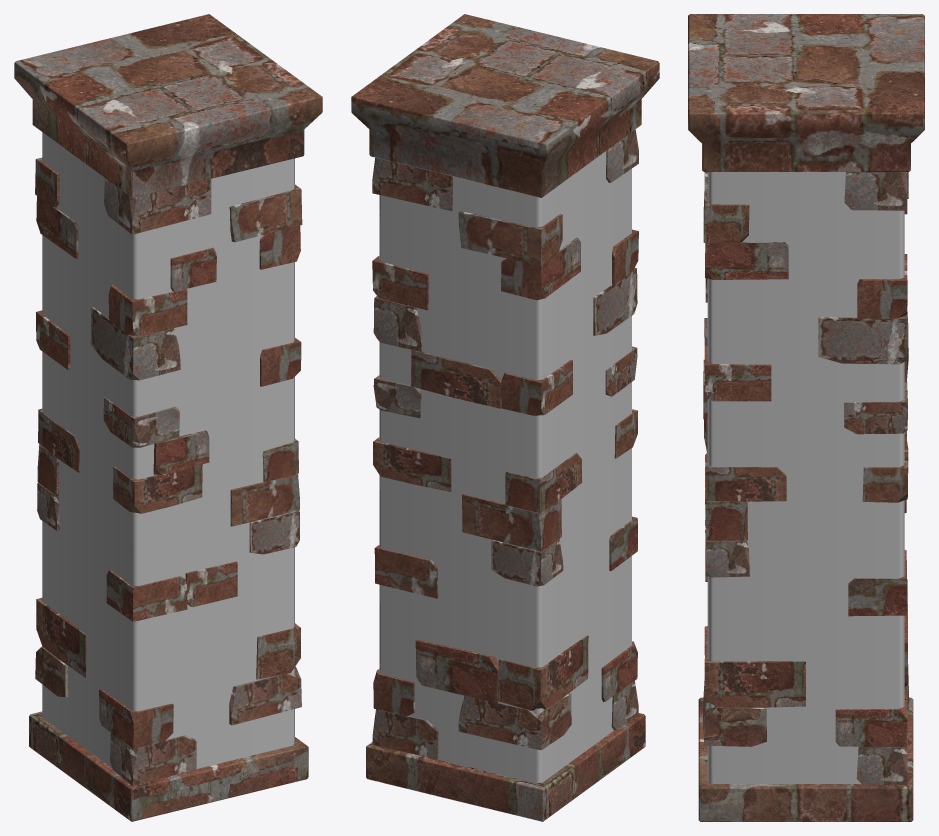
The model's file is SM_Brick_Column_03.fbx.
3 renders of one model, left to right at view 1: azimuth 30°, elevation 25°; view 2: azimuth 150°, elevation 25°; view 3: azimuth 270°, elevation 25°, orthographic. The views are drawn at different scales.
Visible parts, largest first — view 1: SM_Brick_Column_03_LOD0; view 2: SM_Brick_Column_03_LOD0; view 3: SM_Brick_Column_03_LOD0.
Boxes of the visible parts, x1,y1,x2,y2 form: SM_Brick_Column_03_LOD0: (14,14,322,821); SM_Brick_Column_03_LOD0: (351,14,659,821); SM_Brick_Column_03_LOD0: (688,14,924,821).
Size of what is drawn, in the model's own units: 181 by 603 by 181.
